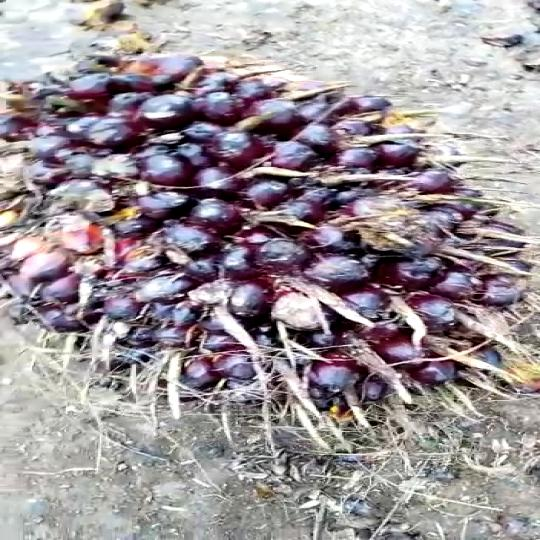mentah: (1, 50, 540, 442)
